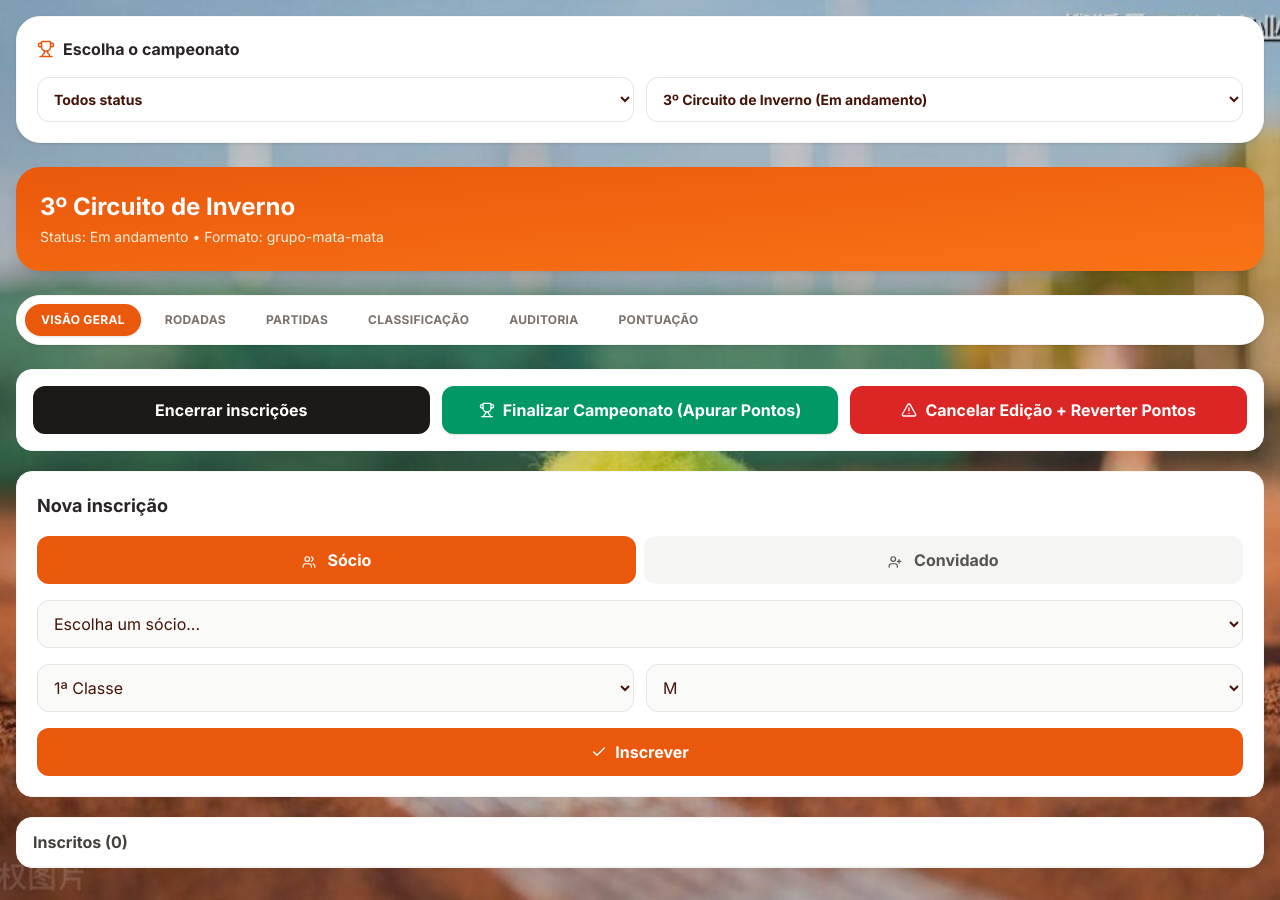
Test: ChampionshipAdmin — rodadas › seleciona todas as rodadas de uma vez e mostra a contagem
The image size is (1280, 900).
Click the button "Rodadas" at (195, 320), box 149,304 -> 242,336
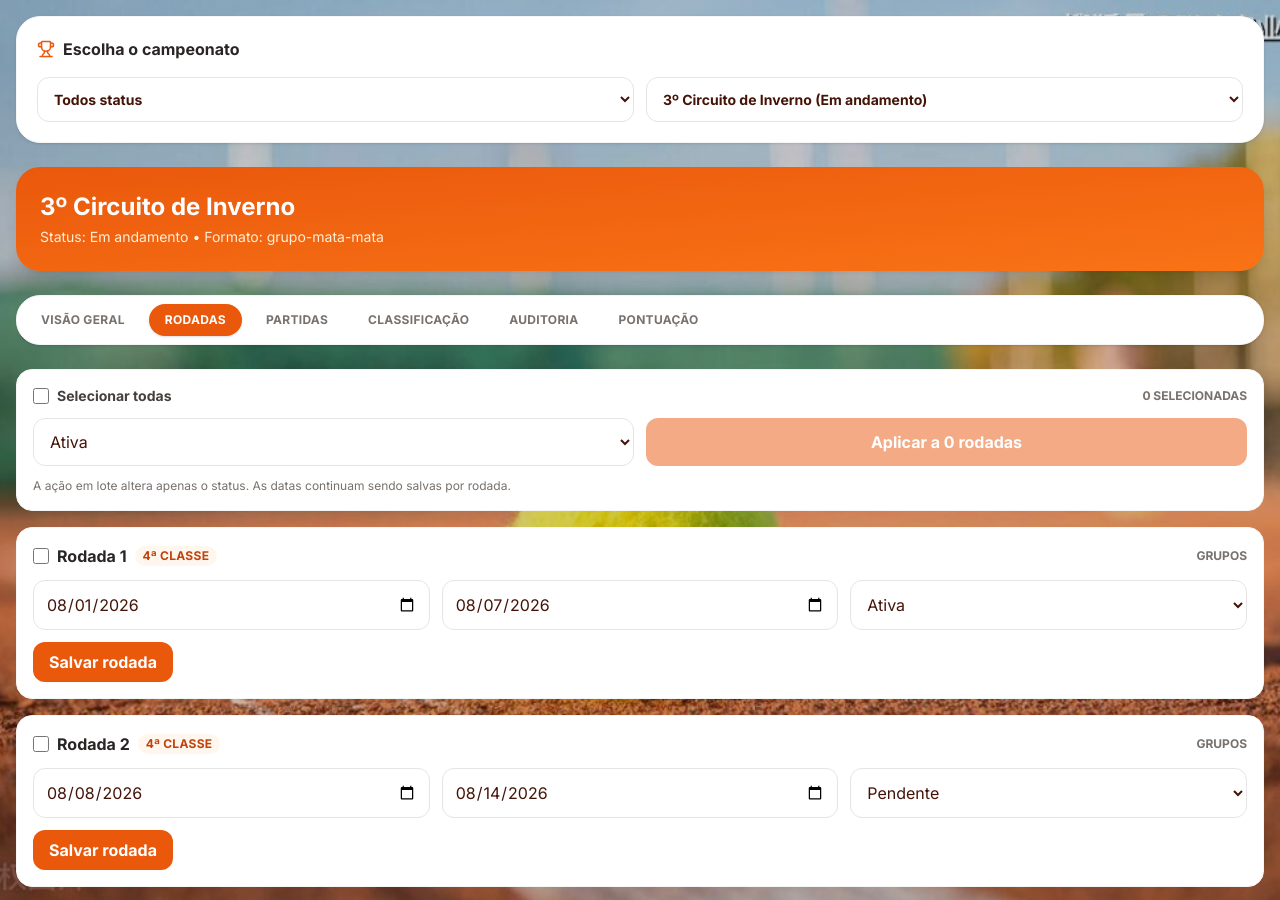
Click the checkbox named "Selecionar Rodada 1" at (41, 556), box 33,548 -> 49,564
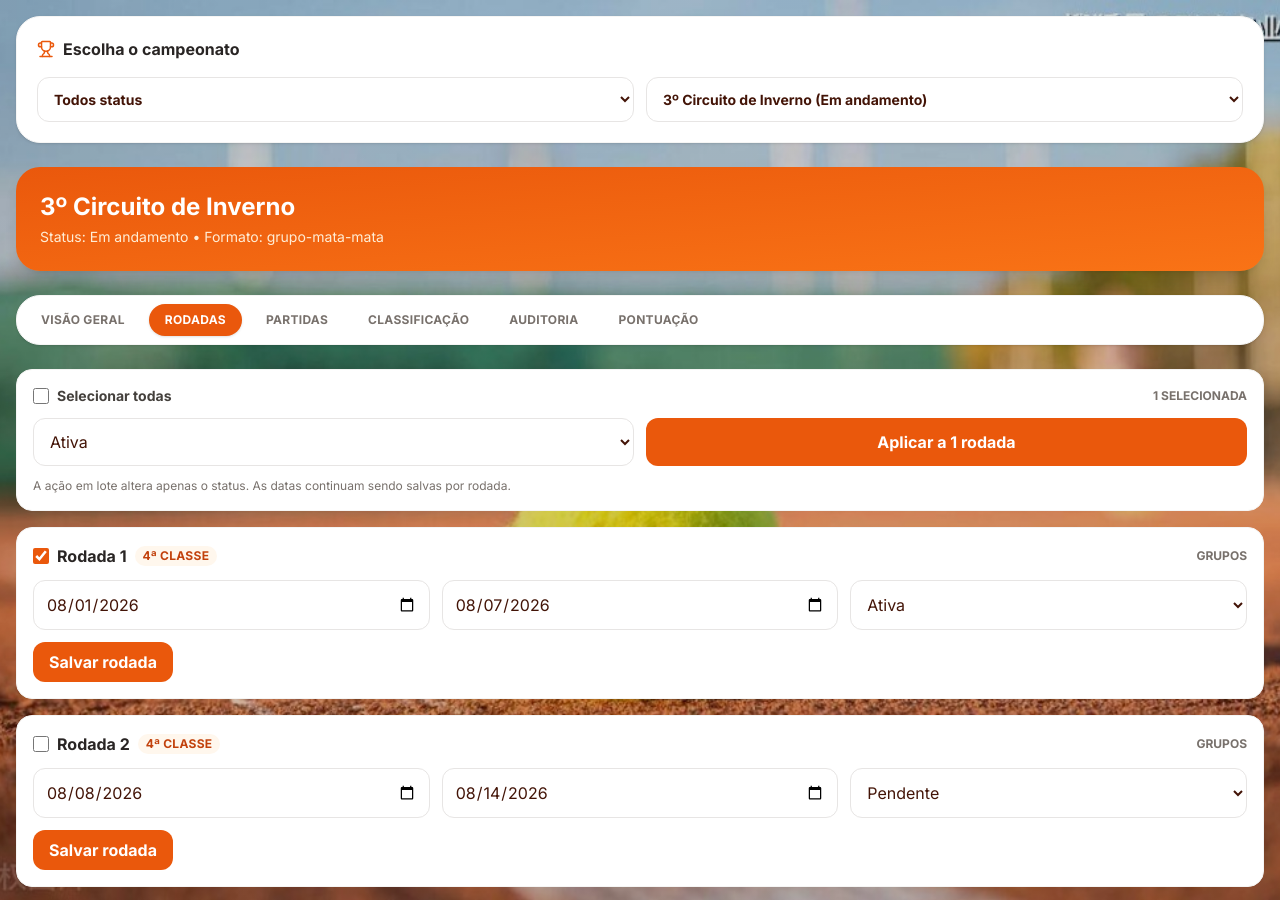
Now the text "1 selecionada" is shown, box 1153,388 -> 1247,404
Click the checkbox named "Selecionar Rodada 2" at (41, 744), box 33,736 -> 49,752
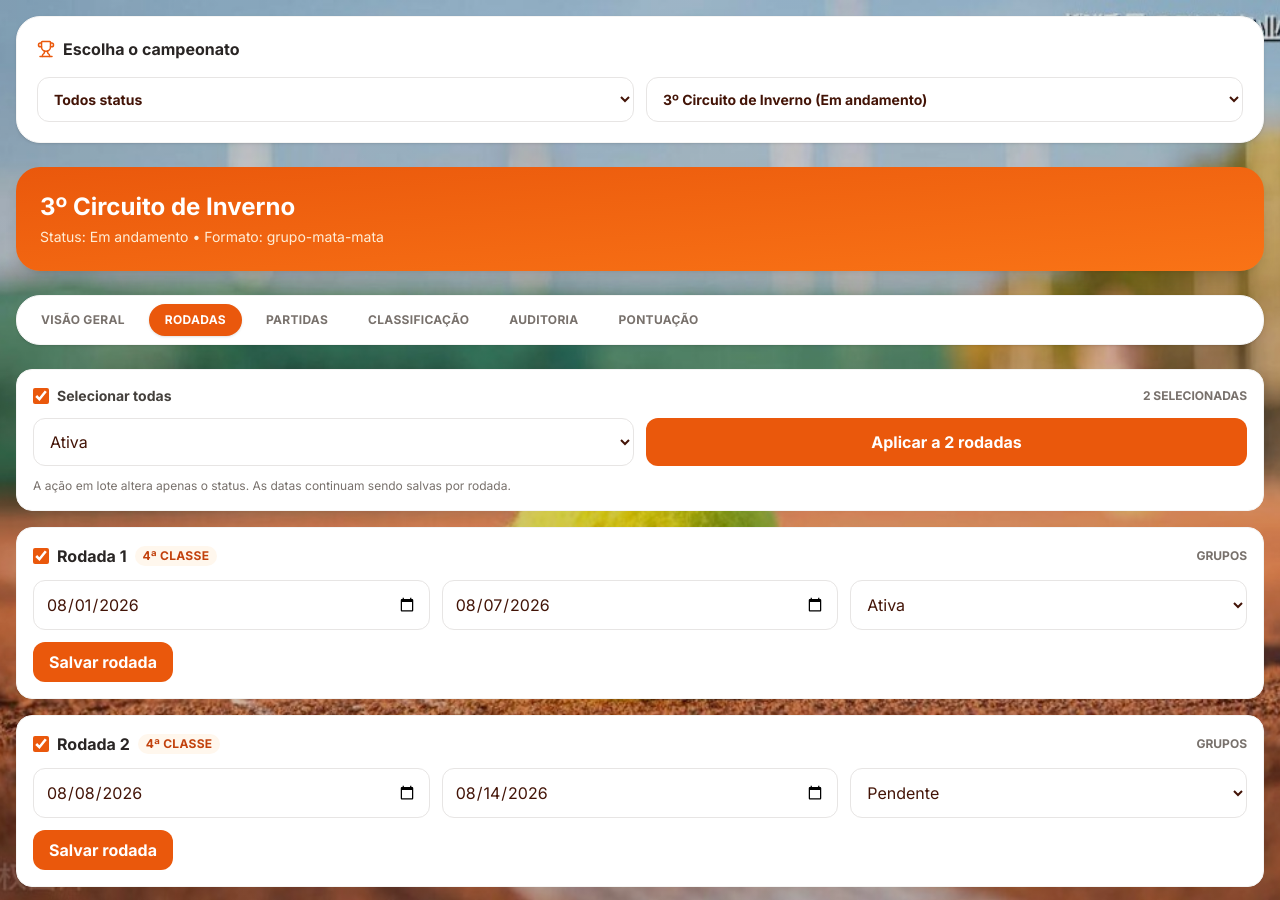
Now the text "2 selecionadas" is shown, box 1143,388 -> 1247,404
